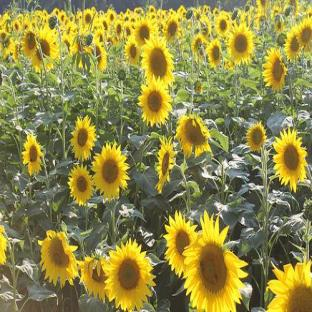sunflower: (105, 240, 155, 312), (265, 127, 308, 193), (92, 142, 131, 202)
